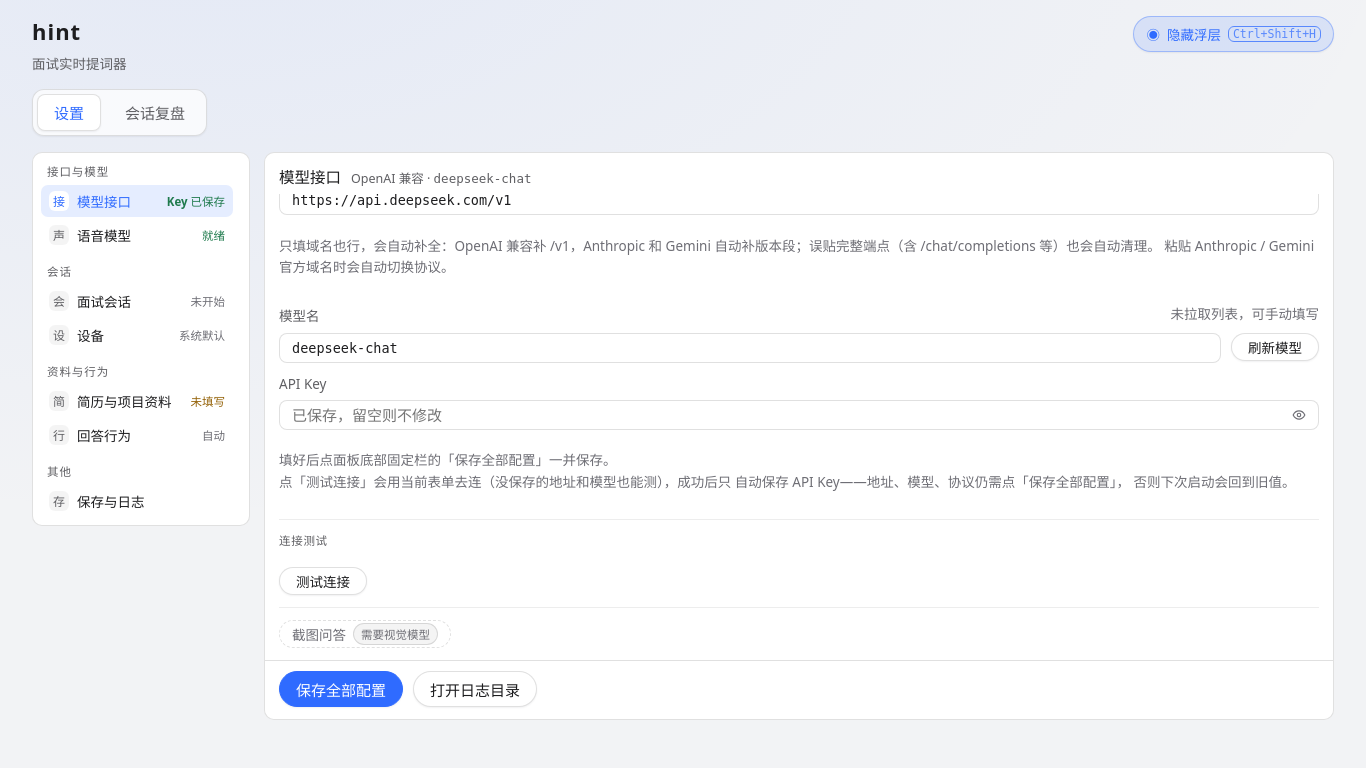
Dashboard —— 测试连接流转 › 点「测试连接」走 form.testConnection，答案写入测试结果区
(page scrolled)
# 先切到模型接口（默认就是），直接点
Click the button "测试连接". click: (323,581)
box: [279,567,367,595]
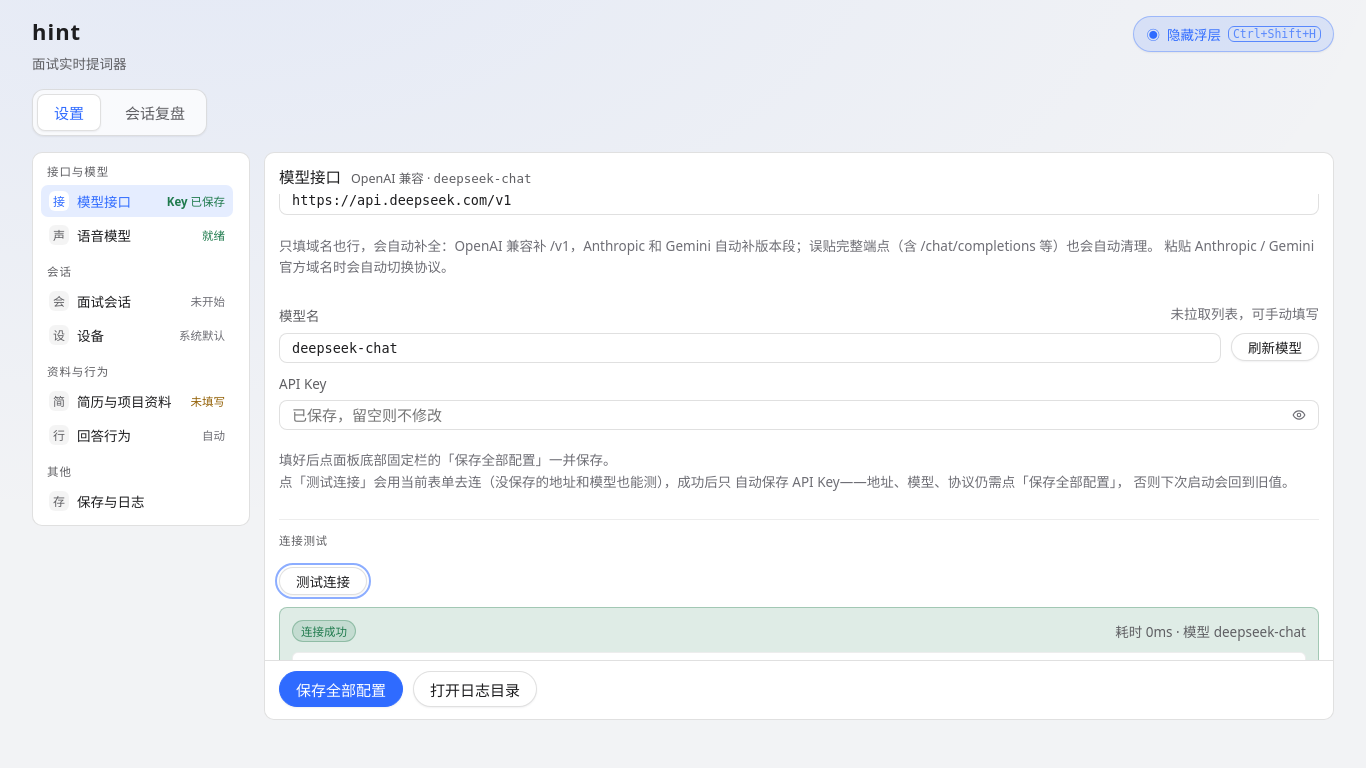
Result: the text "连接成功" is shown at [292,620,356,642]
